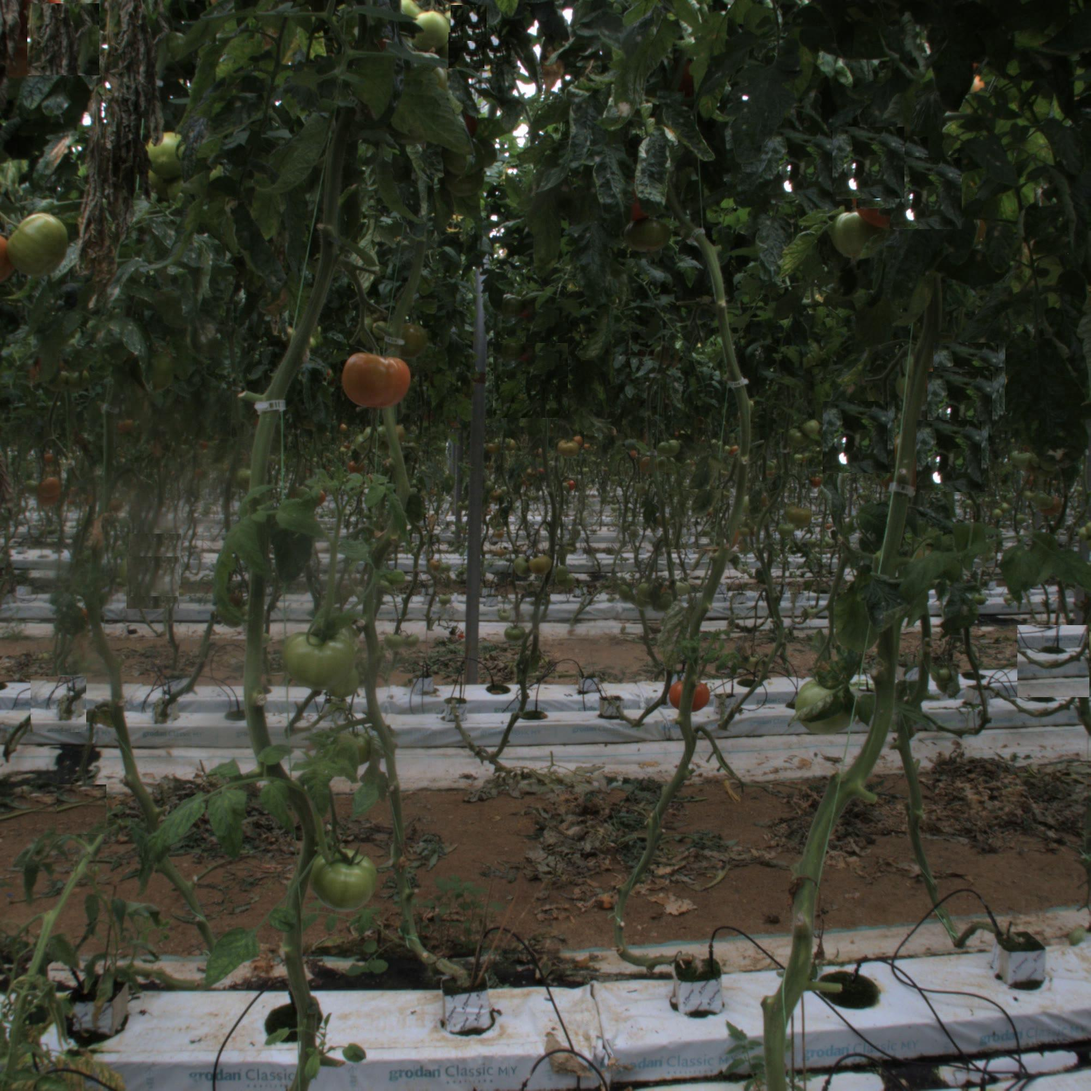fully-ripe: (344, 344, 410, 409), (668, 674, 711, 716)
unripe: (3, 212, 68, 277), (313, 846, 378, 911), (288, 623, 353, 688), (799, 678, 856, 735), (831, 205, 888, 261), (143, 132, 191, 180), (627, 215, 667, 255), (410, 13, 449, 52)
